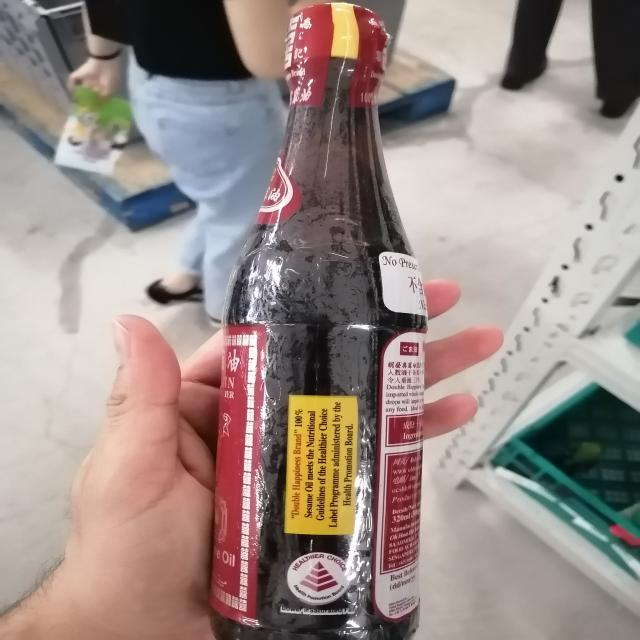object_name: (235, 8, 427, 640)
